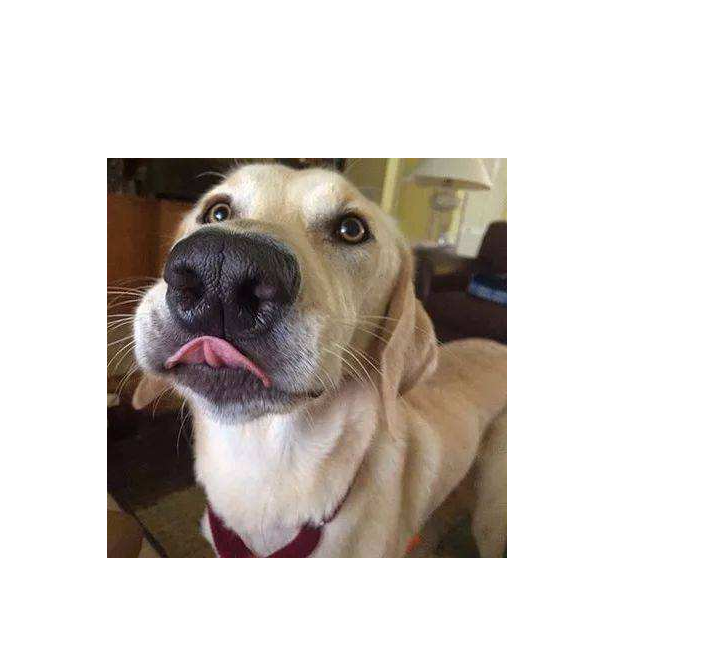nose: (168, 232, 301, 334)
